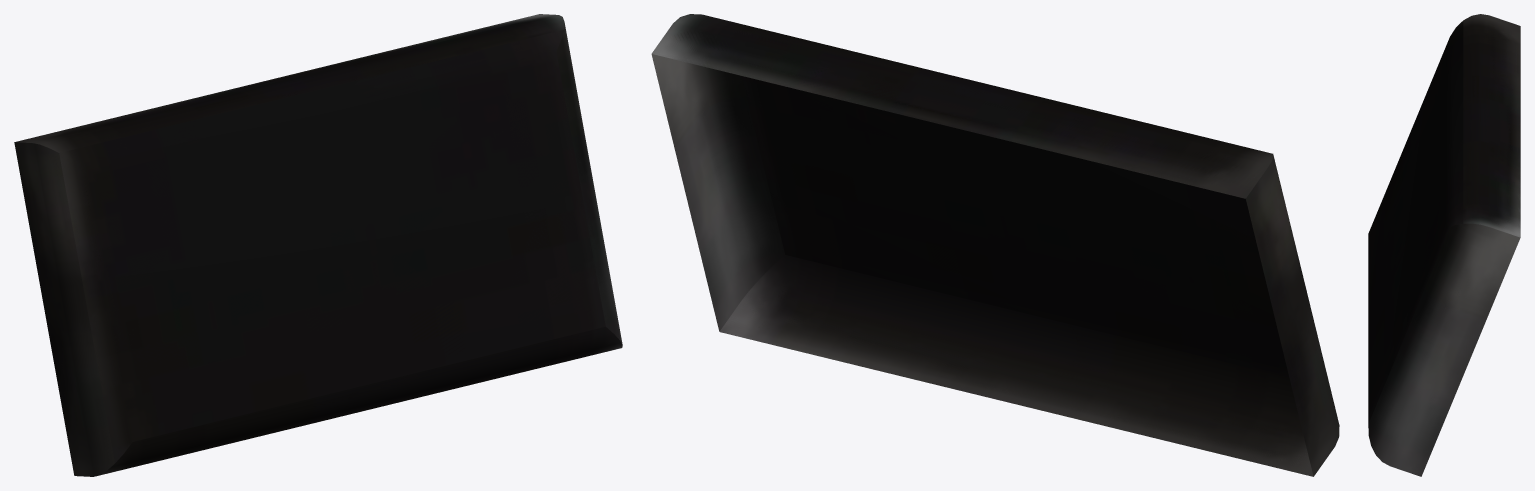
File: link_3__button-4.glb
The picture shows the model from 3 angles, left to right: view 1: azimuth 30°, elevation 25°; view 2: azimuth 150°, elevation 25°; view 3: azimuth 270°, elevation 25°; orthographic projection. The views are drawn at different scales.
Parts seen in each view (by area): view 1: geometry_0; view 2: geometry_0; view 3: geometry_0.
Boxes of the visible parts, left/top/right/bottom form: geometry_0: left=14, top=14, right=622, bottom=476; geometry_0: left=651, top=14, right=1339, bottom=476; geometry_0: left=1368, top=14, right=1520, bottom=476.
Size of the model in its own units: 0.0354 by 0.0197 by 0.0108.
Materials: 1 (1 with a texture image).
